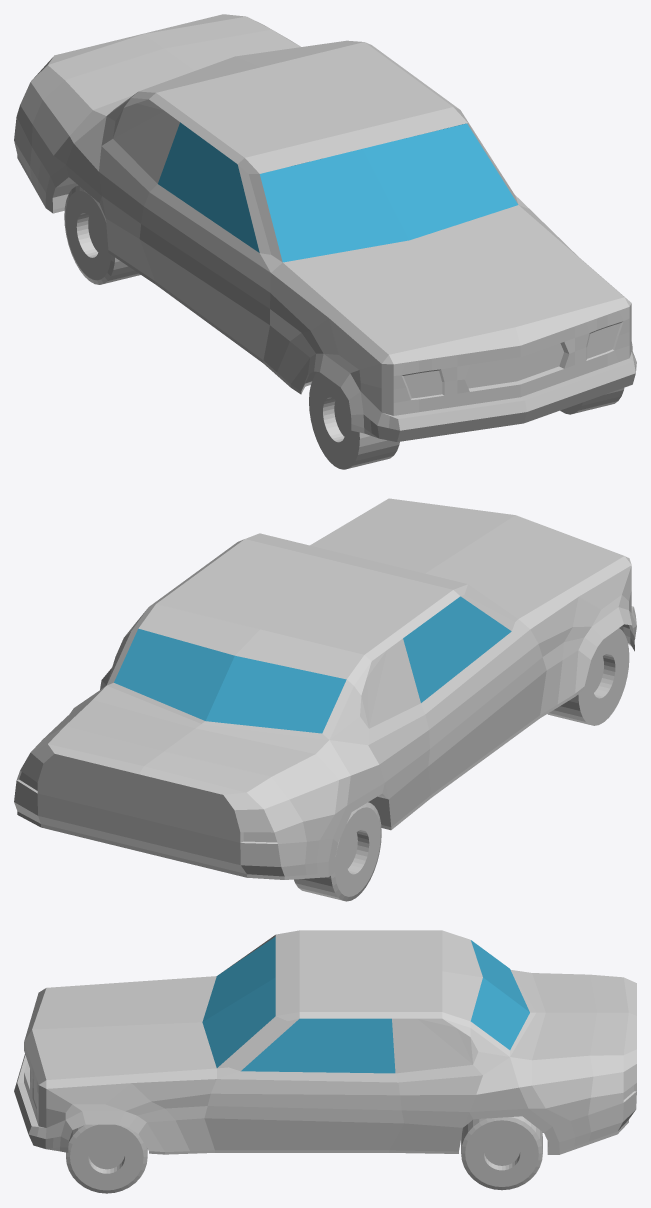
Rendered from car.fbx.
3 renders of one model, top to bottom at view 1: azimuth 30°, elevation 25°; view 2: azimuth 150°, elevation 25°; view 3: azimuth 270°, elevation 25°, orthographic. The views are drawn at different scales.
Visible parts, largest first — view 1: carBody, fr, br, fl; view 2: carBody, br, fr; view 3: carBody, bl, fl.
Boxes of the visible parts, box(x1,y1,x2,y2) form: carBody: box(14, 14, 636, 441); fr: box(309, 372, 399, 469); br: box(64, 185, 140, 284); fl: box(560, 388, 624, 414); carBody: box(14, 498, 636, 879); br: box(294, 802, 381, 901); fr: box(547, 628, 629, 725); carBody: box(14, 930, 636, 1154); bl: box(461, 1116, 542, 1190); fl: box(66, 1124, 147, 1193).
Bounding box in the file's own units: 2.45 × 1.73 × 5.7.
